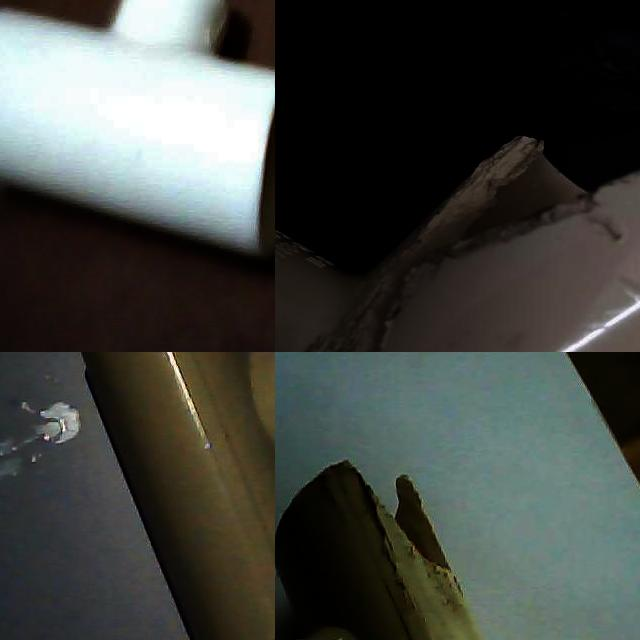Defective: (479, 130, 640, 236), (358, 474, 449, 613), (352, 464, 452, 574), (285, 299, 431, 352), (411, 202, 508, 281)
T Joint: (0, 0, 275, 268), (79, 352, 275, 640), (275, 463, 483, 640)
